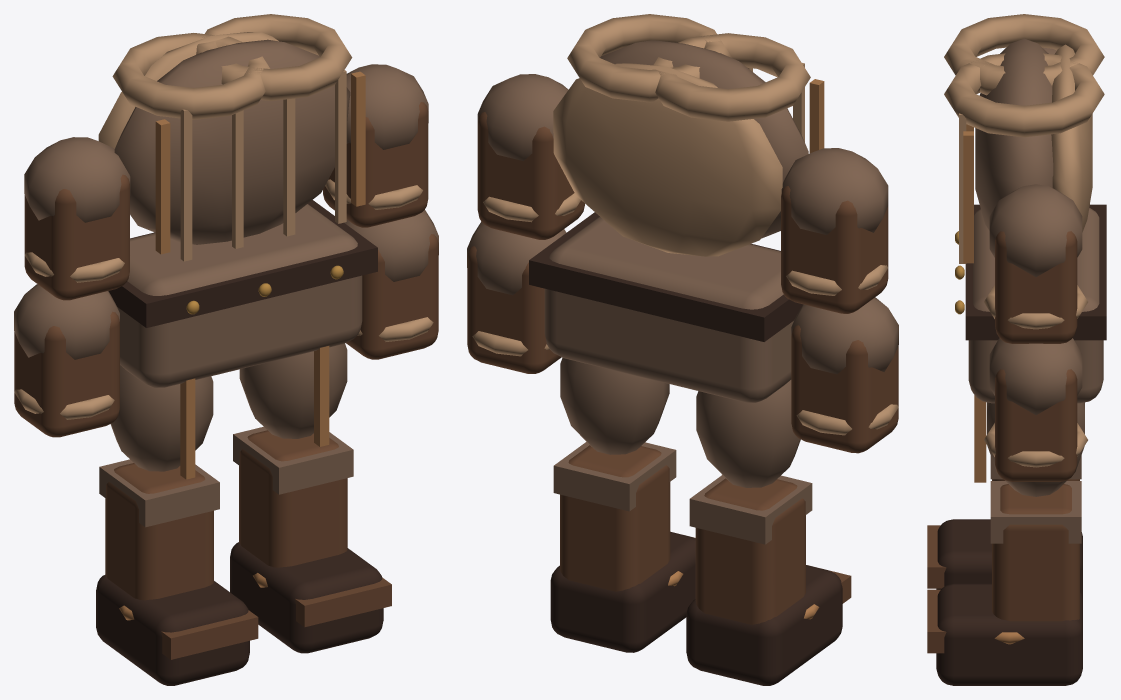
Rendered from armor-hide.glb.
The picture shows the model from 3 angles, left to right: view 1: azimuth 30°, elevation 25°; view 2: azimuth 150°, elevation 25°; view 3: azimuth 270°, elevation 25°; orthographic projection. The views are drawn at different scales.
Visible parts, largest first — view 1: hide-sleeve (×4), hide-waist, hide-fur-front, hide-greave (×2), hide-shoulder-fur (×4), leather-boot (×2), hide-neck-fur (×2), hide-thigh-pelt (×2), hide-belt, hide-greave-fur (×2), hide-pelt-seam (×4), boot-toe-cap (×2) (+4 smaller); view 2: hide-sleeve (×4), hide-fur-back, hide-waist, hide-greave (×2), hide-shoulder-fur (×4), leather-boot (×2), hide-thigh-pelt (×2), hide-neck-fur (×2), hide-belt, hide-greave-fur (×2), hide-fur-front, hide-sleeve-binding (×4) (+1 smaller); view 3: leather-boot (×2), hide-sleeve (×2), hide-neck-fur (×2), hide-shoulder-fur (×2), hide-greave, hide-fur-front, hide-waist, hide-fur-back, hide-belt, hide-greave-fur, hide-sleeve-binding (×2), boot-toe-cap (×2) (+4 smaller).
Part boxes in pixels (x1,y1,x2,y2): hide-sleeve (×4): (14, 102, 438, 437); hide-waist: (117, 204, 362, 387); hide-fur-front: (114, 39, 350, 244); hide-greave (×2): (105, 430, 347, 600); hide-shoulder-fur (×4): (14, 64, 438, 359); leather-boot (×2): (96, 542, 383, 685); hide-neck-fur (×2): (112, 14, 352, 119); hide-thigh-pelt (×2): (110, 343, 347, 471); hide-belt: (108, 200, 377, 327); hide-greave-fur (×2): (99, 426, 353, 527); hide-pelt-seam (×4): (180, 70, 346, 261); boot-toe-cap (×2): (161, 577, 391, 659); hide-sleeve (×4): (467, 112, 898, 453); hide-fur-back: (553, 63, 782, 256); hide-waist: (544, 216, 793, 402); hide-greave (×2): (560, 445, 805, 624); hide-shoulder-fur (×4): (467, 74, 898, 374); leather-boot (×2): (550, 532, 842, 685); hide-thigh-pelt (×2): (560, 357, 800, 487); hide-neck-fur (×2): (567, 14, 810, 121); hide-belt: (529, 212, 802, 341); hide-greave-fur (×2): (553, 442, 812, 544); hide-fur-front: (600, 40, 808, 238); hide-sleeve-binding (×4): (472, 193, 898, 435); leather-boot (×2): (936, 519, 1082, 685); hide-sleeve (×2): (995, 231, 1077, 481); hide-neck-fur (×2): (944, 14, 1104, 137); hide-shoulder-fur (×2): (989, 184, 1082, 414); hide-greave: (992, 484, 1079, 621); hide-fur-front: (975, 38, 1053, 230); hide-waist: (968, 208, 1103, 403); hide-fur-back: (1051, 44, 1092, 232); hide-belt: (965, 204, 1106, 340); hide-greave-fur: (990, 481, 1081, 543); hide-sleeve-binding (×2): (984, 285, 1087, 467); boot-toe-cap (×2): (927, 525, 946, 653).
Bounding box in the file's own units: 0.8052 × 1.09 × 0.305.
